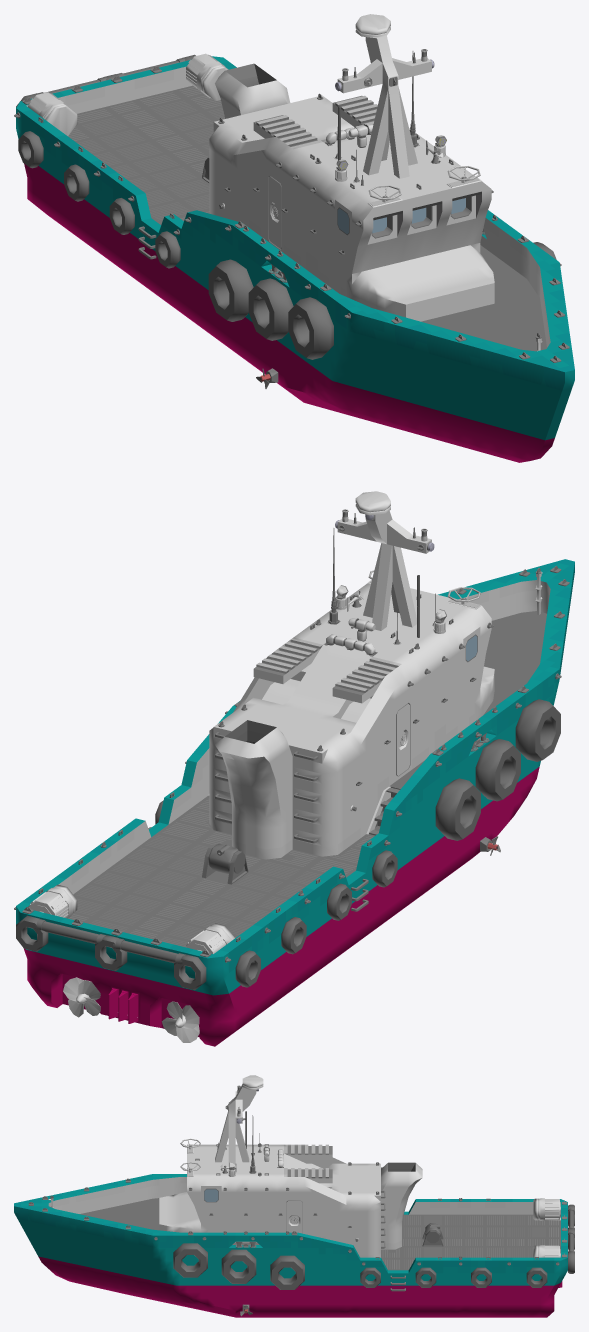
The model's file is tug_boat.glb.
3 views of the same model, one above another, from view 1: azimuth 30°, elevation 25°; view 2: azimuth 150°, elevation 25°; view 3: azimuth 270°, elevation 25° (orthographic). The views are drawn at different scales.
Visible parts, largest first — view 1: Geode; view 2: Geode; view 3: Geode.
Part boxes in pixels (bbox=[...]): Geode: bbox=[14, 14, 574, 462]; Geode: bbox=[14, 491, 574, 1046]; Geode: bbox=[14, 1075, 574, 1317].
Size of the model in its own units: 6.25 by 8.6 by 20.25.
